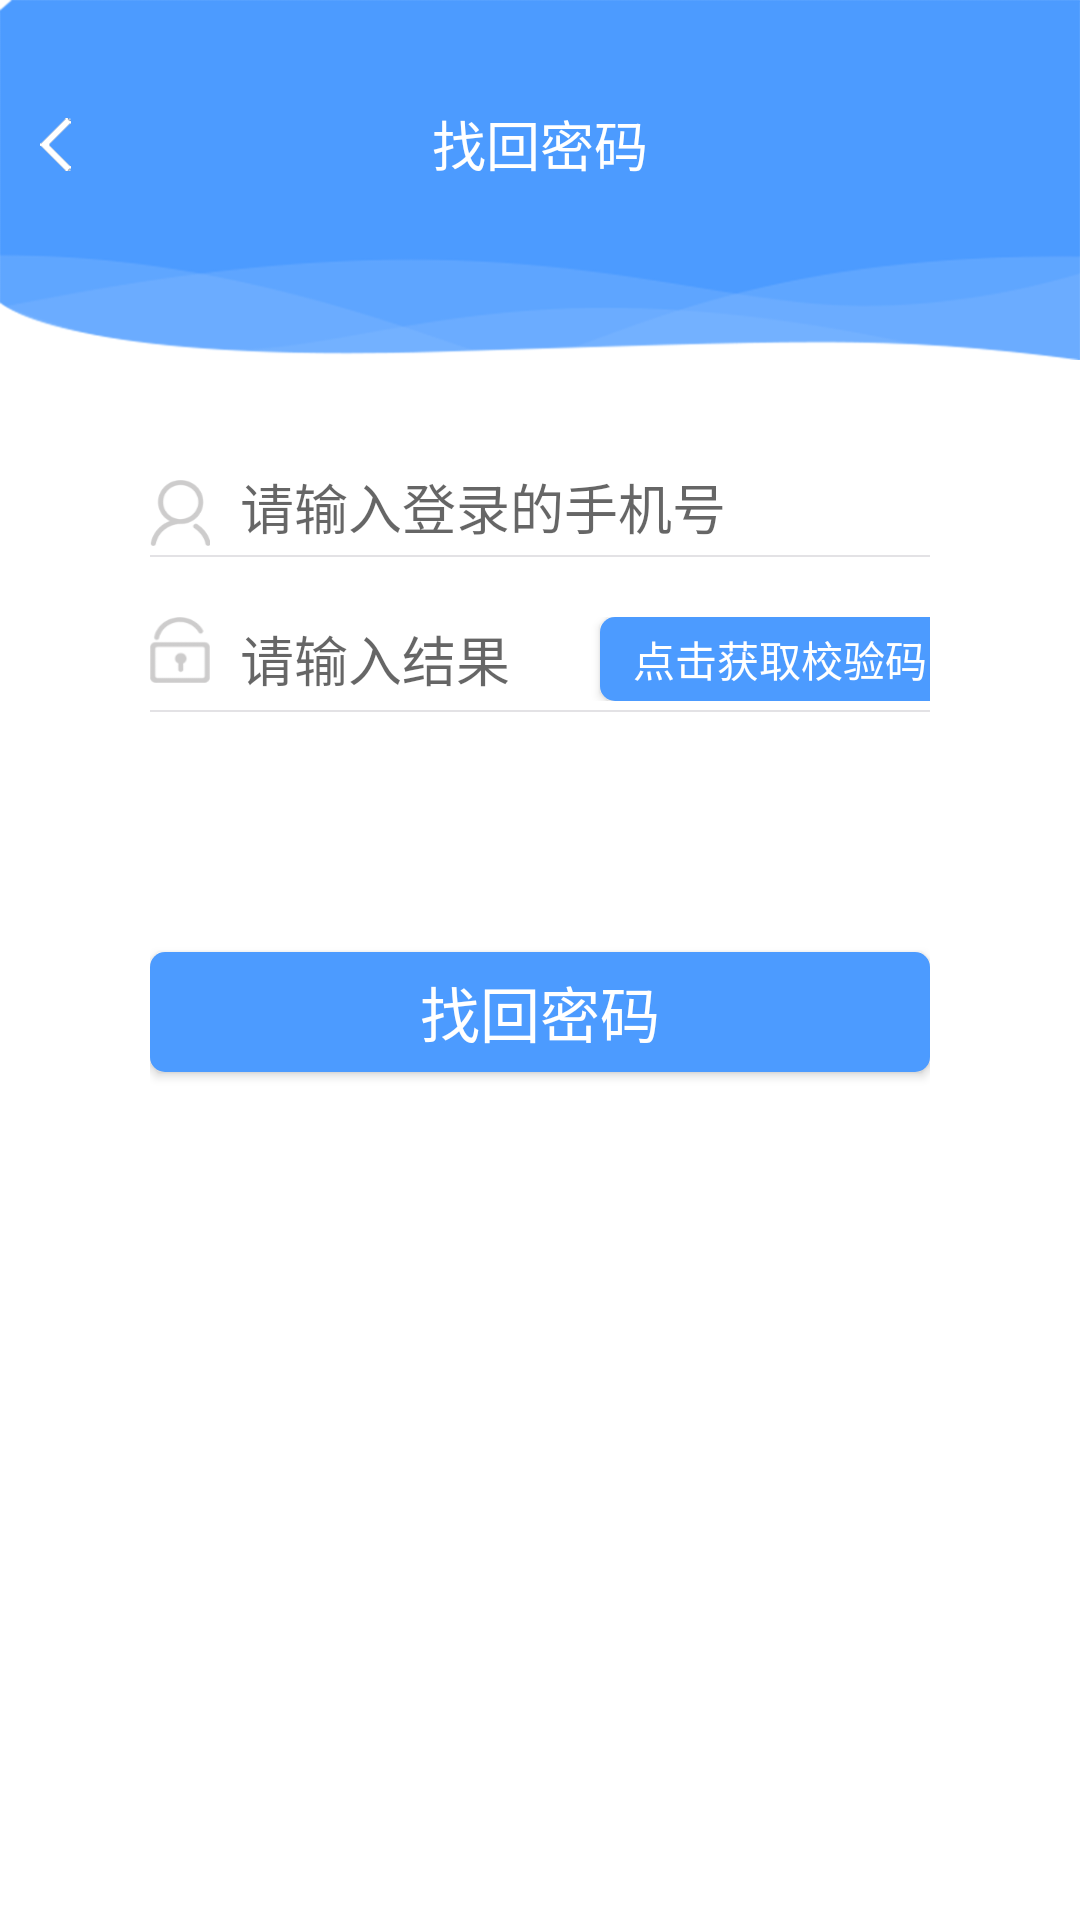

Locate icon controls on the screen. Image size 1080px x 1920px, boxes as box(x1, y1, x2, y2).
login passwd: box(150, 617, 210, 683)
login return: box(40, 118, 71, 171)
login user: box(151, 480, 210, 546)
